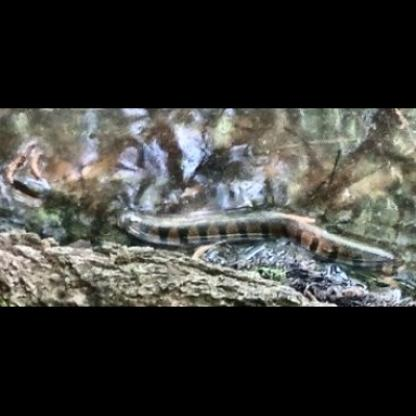Snake: (3, 116, 414, 296)
